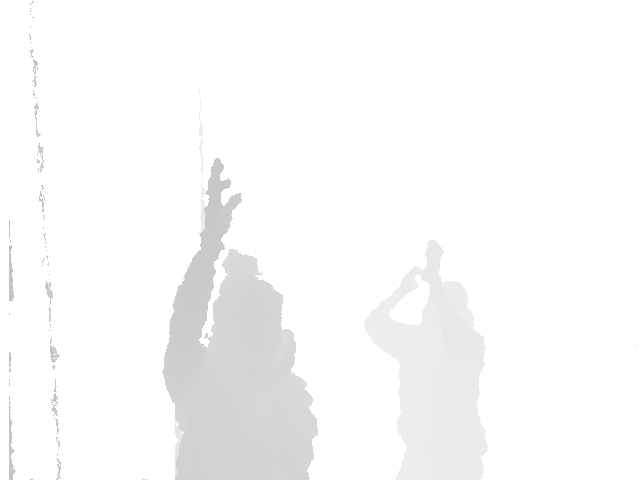hand: (200, 158, 242, 242), (423, 240, 443, 284)
head: (211, 249, 283, 354), (420, 282, 468, 334)
person: (161, 159, 320, 479), (362, 240, 488, 480)
